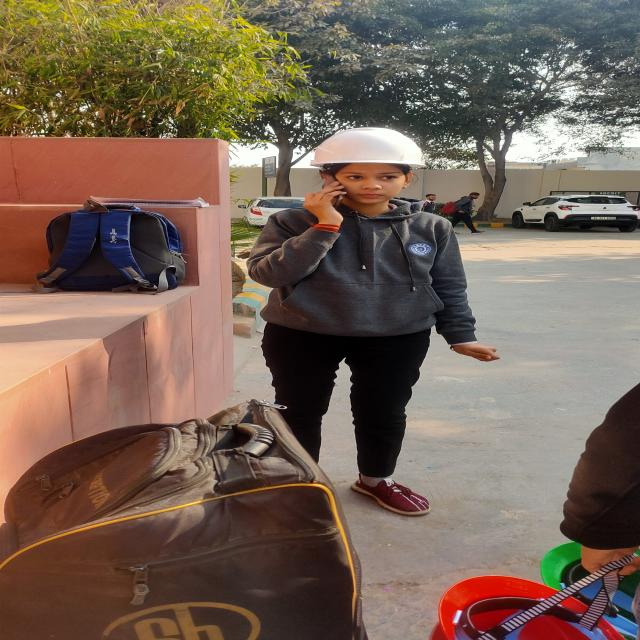no jacket: (232, 127, 496, 515)
unsafe: (452, 193, 485, 235), (420, 192, 439, 215)
